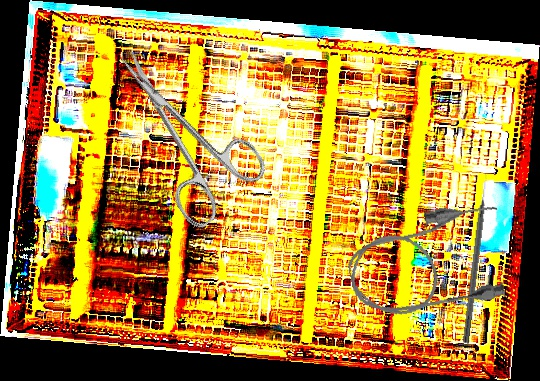Cannula: (340, 196, 516, 328)
Hook Surgical: (461, 173, 492, 344)
Iris Scissors: (88, 24, 276, 233)
